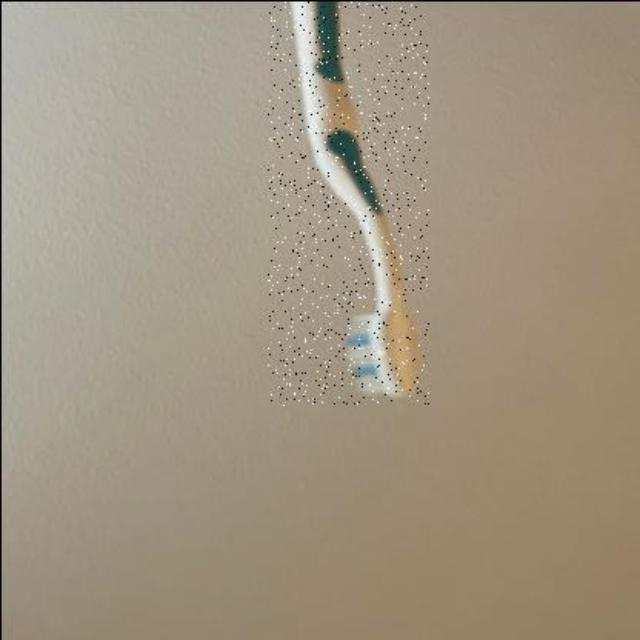toothbrush: (266, 0, 428, 404)
